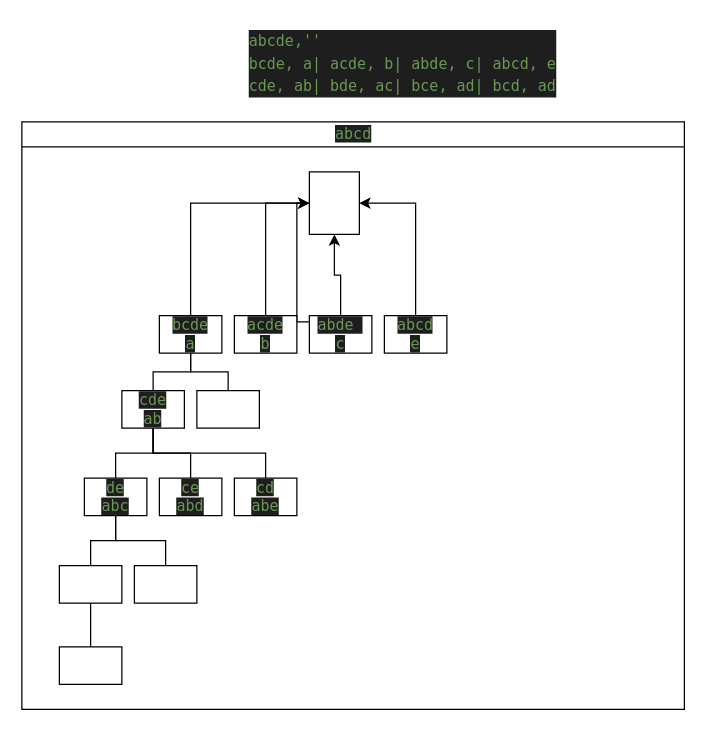
This 706x731 diagram has some shape labels left out. The shapes that lost their labels are listed below. From the top down, each one's centre as x and y in pixels, then its label:
point (333, 202): abcde ''
point (227, 408): bde ac
point (90, 583): d abce
point (165, 583): e abcd
point (90, 665): "" dabce
